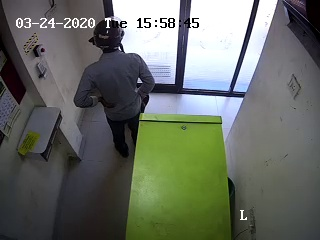helmet: (87, 16, 127, 63)
